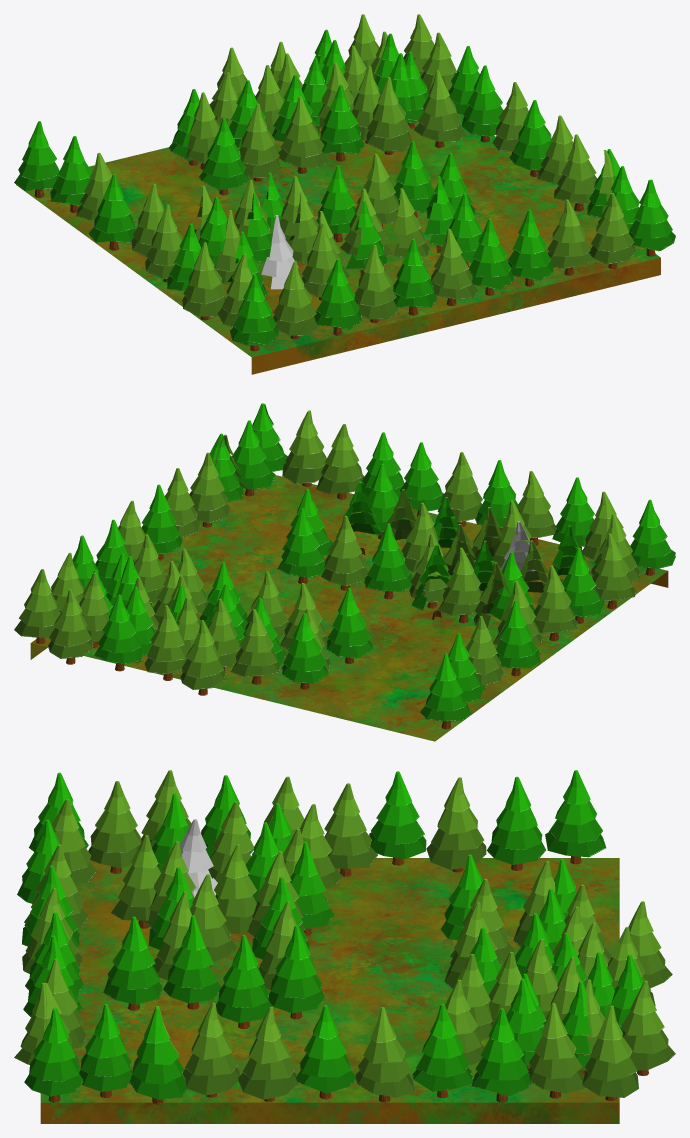
The model's file is lvl_0-cnk_0.obj.
3 views of the same model, one above another, from view 1: azimuth 30°, elevation 25°; view 2: azimuth 150°, elevation 25°; view 3: azimuth 270°, elevation 25° (orthographic). The views are drawn at different scales.
Visible parts, largest first — view 1: Cube.007, Arbol_1.081, Arbol_1.010, Arbol_1.030, Arbol_1.068, Arbol_1.062, Arbol_1.001, Arbol_1.006, Arbol_1.011, Arbol_1.017, Arbol_1.020, Arbol_1.042 (+60 smaller); view 2: Cube.007, Arbol_1.022, Arbol_1.014, Arbol_1.147, Arbol_1.136, Arbol_1.035, Arbol_1.062, Arbol_1.015, Arbol_1.016, Arbol_1.143, Arbol_1.137, Arbol_1.145 (+60 smaller); view 3: Cube.007, Arbol_1.037, Arbol_1.036, Arbol_1.044, Arbol_1.035, Arbol_1.033, Arbol_1.025, Arbol_1.040, Arbol_1.039, Arbol_1.043, Arbol_1.028, Arbol_1.031 (+65 smaller).
Boxes of the visible parts, x1,y1,x2,y2 form: Cube.007: (16, 114, 660, 374); Arbol_1.081: (366, 77, 411, 154); Arbol_1.010: (273, 261, 318, 339); Arbol_1.030: (413, 70, 466, 147); Arbol_1.068: (278, 96, 329, 173); Arbol_1.062: (198, 118, 249, 195); Arbol_1.001: (230, 274, 278, 351); Arbol_1.006: (182, 242, 226, 320); Arbol_1.011: (314, 258, 361, 335); Arbol_1.017: (354, 245, 398, 322); Arbol_1.020: (431, 228, 478, 306); Arbol_1.042: (589, 193, 635, 269); Cube.007: (30, 475, 668, 741); Arbol_1.022: (316, 424, 364, 499); Arbol_1.014: (363, 523, 412, 599); Arbol_1.147: (94, 594, 143, 671); Arbol_1.136: (281, 613, 328, 689); Arbol_1.035: (420, 653, 471, 729); Arbol_1.062: (326, 588, 373, 663); Arbol_1.015: (277, 508, 325, 583); Arbol_1.016: (321, 515, 368, 590); Arbol_1.143: (48, 589, 93, 664); Arbol_1.137: (231, 609, 281, 684); Arbol_1.145: (180, 620, 225, 695); Cube.007: (40, 858, 619, 1123); Arbol_1.037: (238, 1007, 297, 1101); Arbol_1.036: (182, 1002, 239, 1097); Arbol_1.044: (582, 1005, 638, 1100); Arbol_1.035: (545, 770, 606, 864); Arbol_1.033: (426, 777, 486, 872); Arbol_1.025: (129, 1008, 186, 1104); Arbol_1.040: (355, 1007, 415, 1102); Arbol_1.039: (412, 1004, 473, 1098); Arbol_1.043: (528, 1003, 585, 1098); Arbol_1.028: (103, 916, 163, 1010); Arbol_1.031: (369, 771, 426, 865).
Bounding box in the file's own units: 108 × 21.19 × 113.
